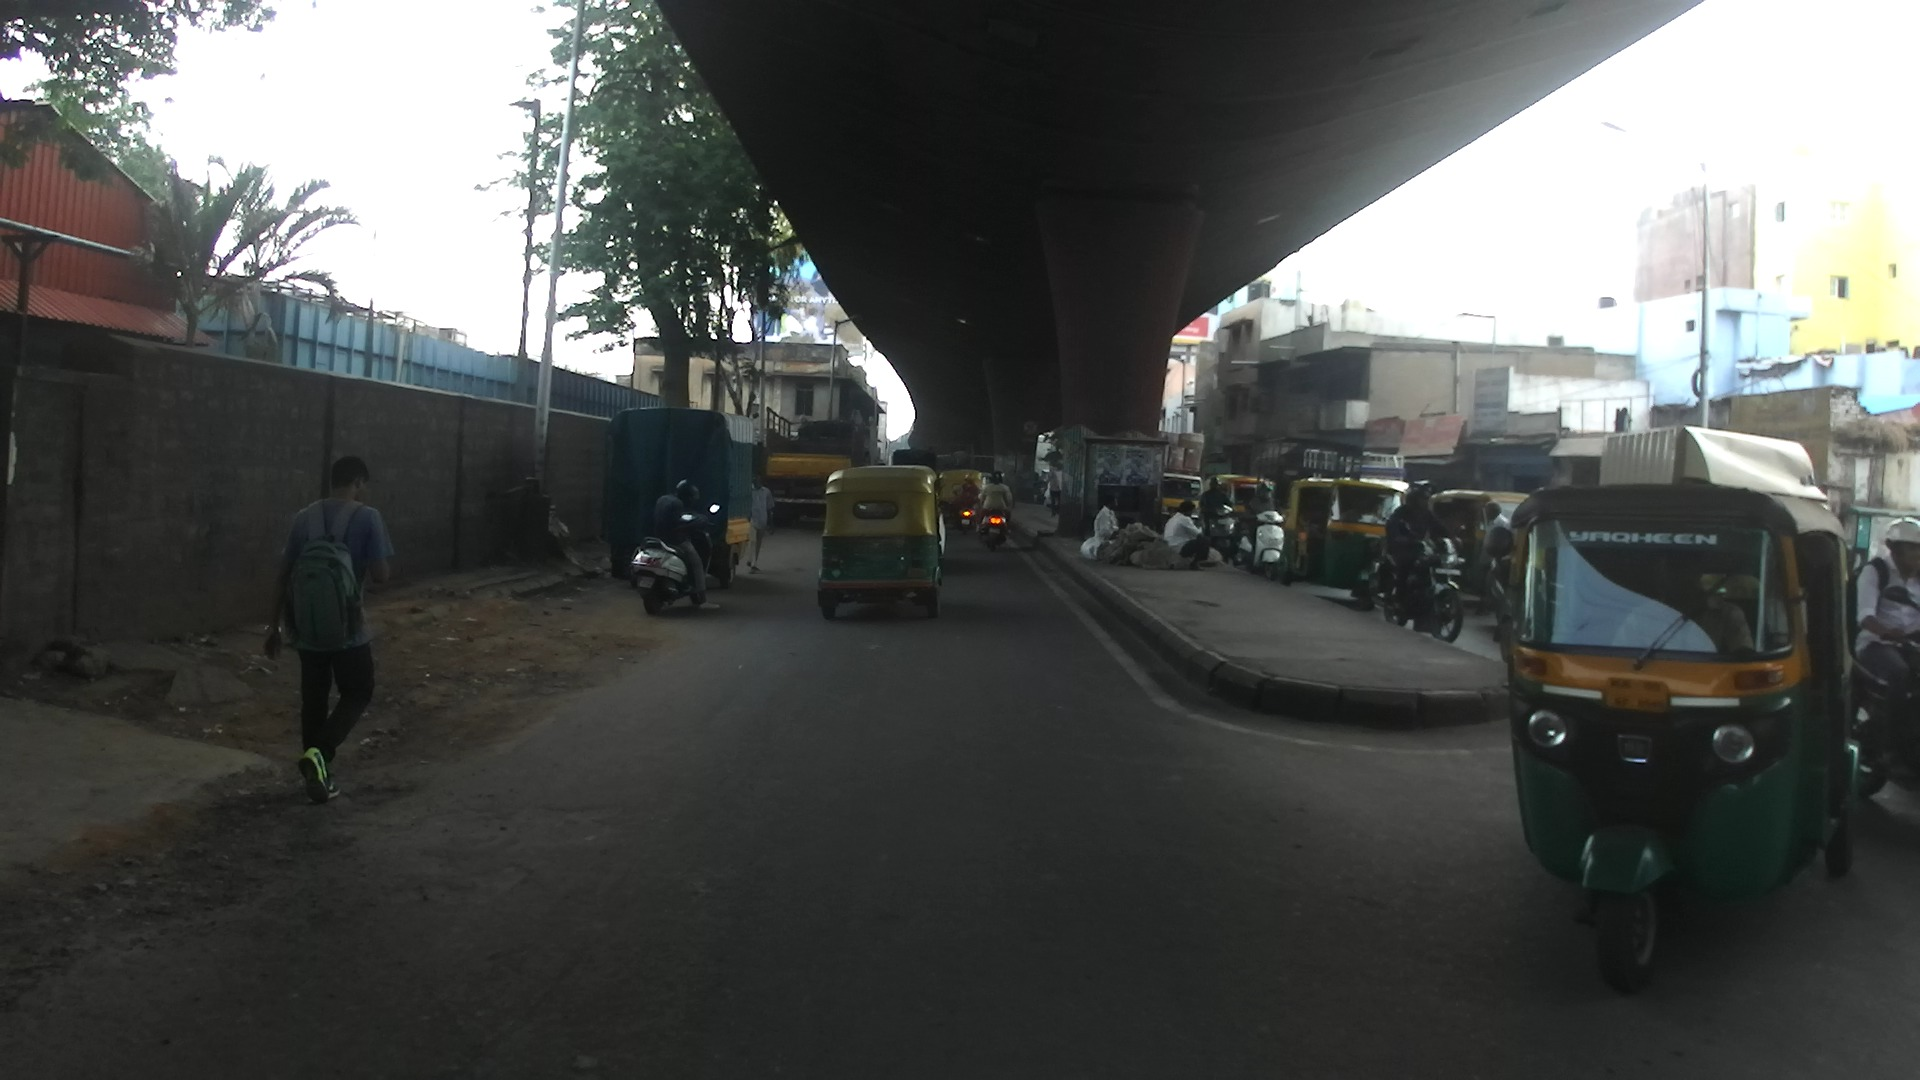autorickshaw: (1487, 483, 1853, 997), (814, 466, 941, 623), (1270, 477, 1412, 611), (1424, 490, 1538, 610), (1208, 475, 1276, 538), (940, 469, 988, 527)
motorcycle: (1845, 563, 1920, 798), (628, 504, 720, 619), (1382, 527, 1466, 646), (1231, 510, 1287, 582), (1200, 501, 1239, 563), (979, 495, 1014, 558), (957, 495, 977, 536)
person: (260, 458, 388, 811), (1482, 500, 1517, 614), (1164, 498, 1213, 572), (752, 469, 771, 576), (1091, 496, 1123, 559), (1045, 460, 1069, 522)
rider: (1855, 518, 1916, 772), (652, 478, 726, 611), (1384, 488, 1446, 629), (1197, 474, 1234, 551), (1244, 480, 1277, 566), (977, 467, 1014, 538), (959, 474, 980, 518)
truck: (604, 404, 759, 585), (1601, 429, 1819, 495), (763, 418, 870, 531), (1156, 471, 1204, 536), (890, 449, 936, 484)
vehicle fallback: (1302, 447, 1405, 479), (1206, 475, 1240, 500), (1033, 469, 1048, 504)
